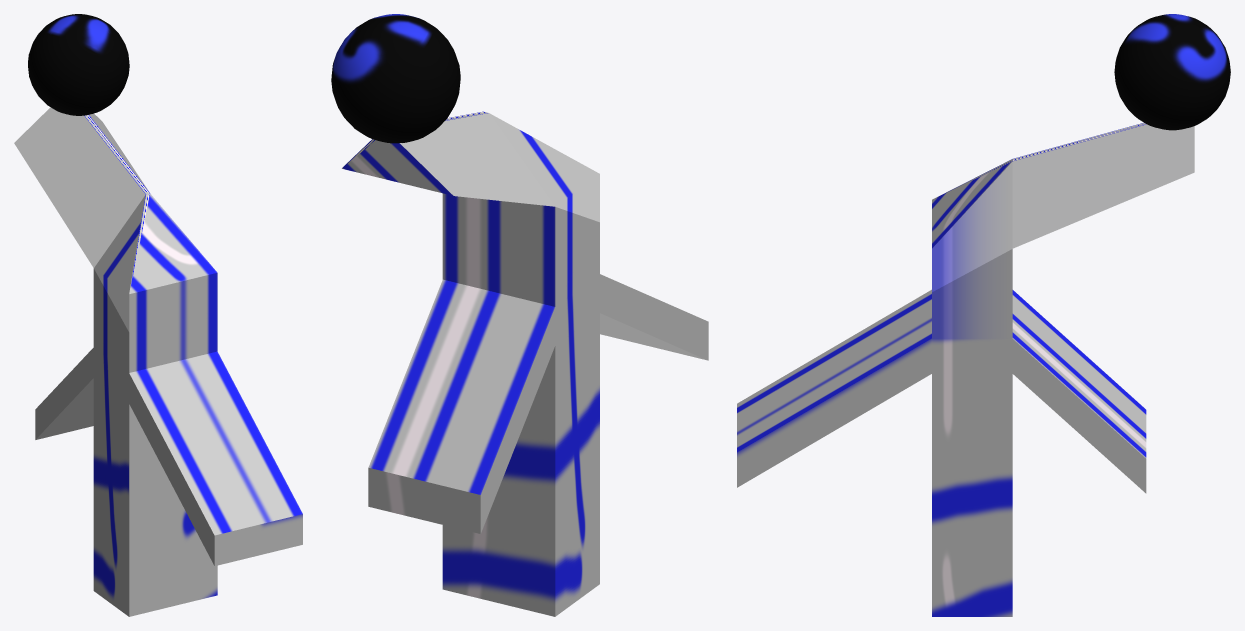
The model's file is TesteAR.gltf.
3 views of the same model, side by side, from view 1: azimuth 30°, elevation 25°; view 2: azimuth 150°, elevation 25°; view 3: azimuth 270°, elevation 25° (orthographic). The views are drawn at different scales.
Visible parts, largest first — view 1: Cube, Sphere; view 2: Cube, Sphere; view 3: Cube, Sphere.
Boxes of the visible parts, x1,y1,x2,y2 form: Cube: (14, 107, 302, 616); Sphere: (28, 14, 129, 115); Cube: (342, 111, 708, 616); Sphere: (331, 14, 460, 143); Cube: (737, 122, 1194, 616); Sphere: (1114, 14, 1230, 130).
Bounding box in the file's own units: 1.12 × 5.49 × 4.24.
2 materials, 2 textured.
